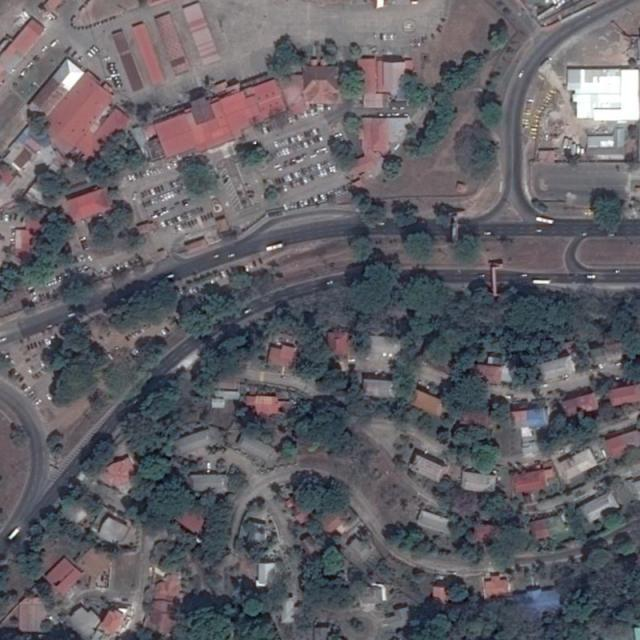vehicle: (8, 525, 21, 540), (267, 242, 286, 251), (536, 217, 553, 226), (534, 280, 550, 283)
